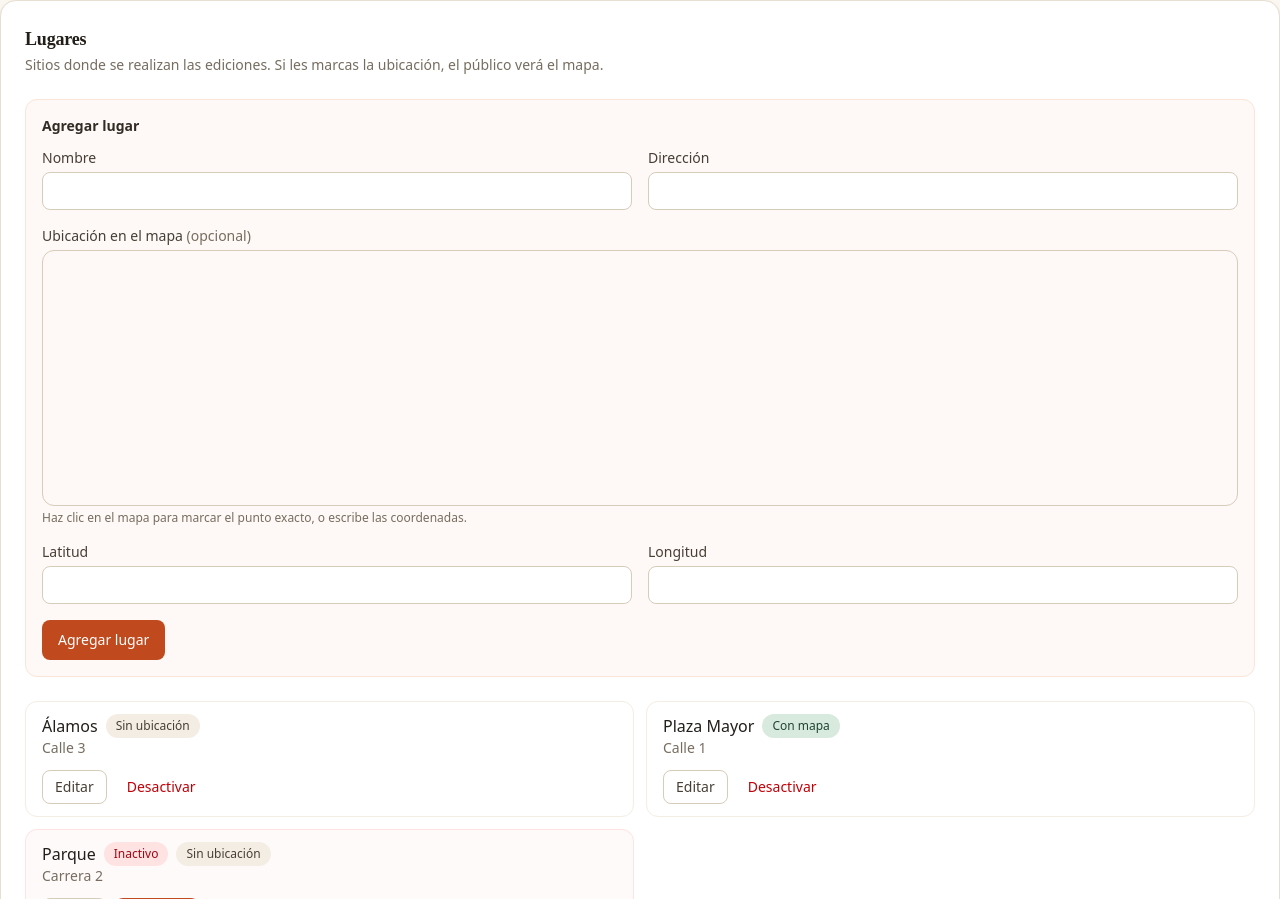
Scenario: GestionLugares: crear › pide ambas coordenadas si solo se escribe una
The image size is (1280, 899).
In the field labelled "Nombre": coordinates (337, 191) [42,172,632,210], type "  Salón Comunal "
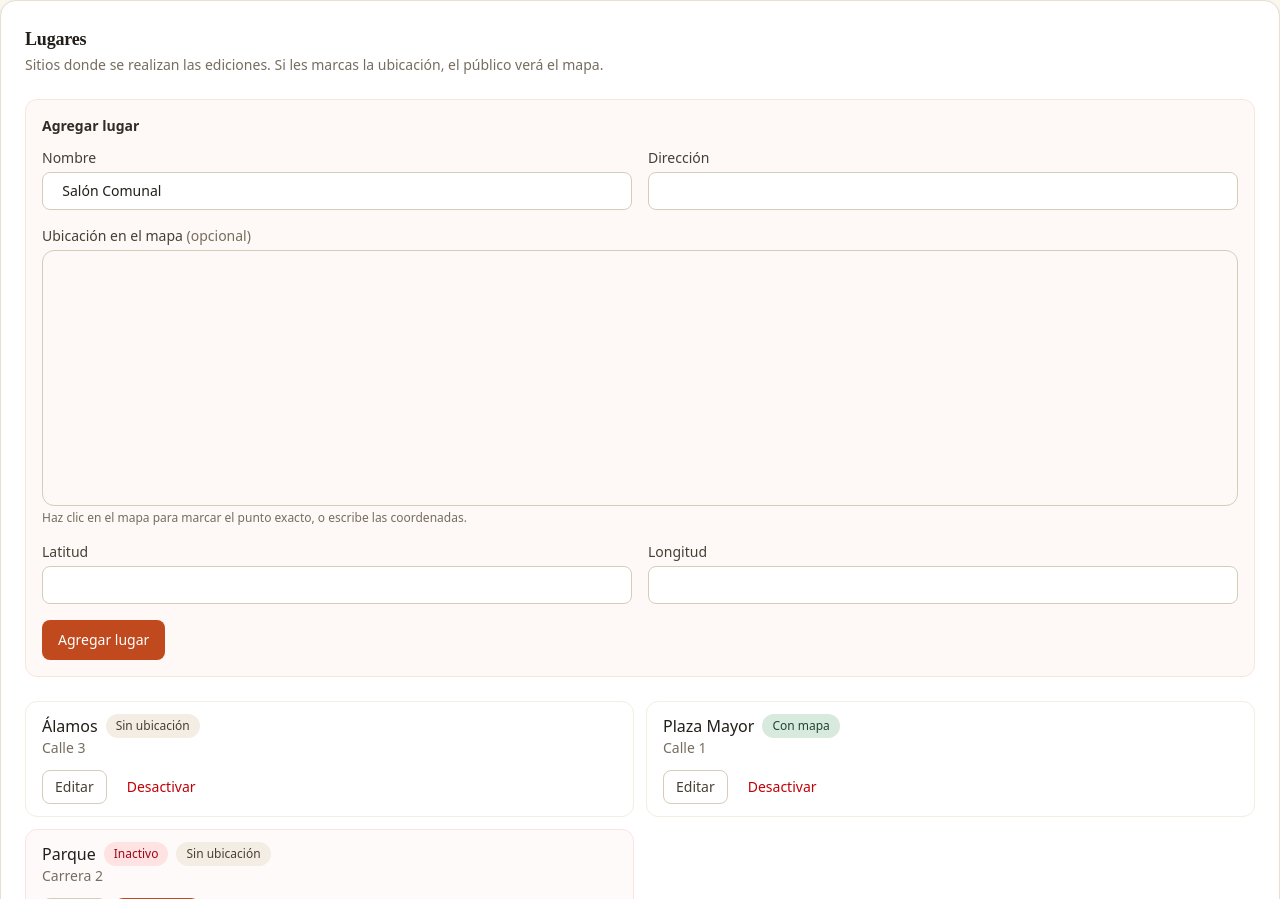
In the field labelled "Dirección": coordinates (943, 191) [648,172,1238,210], type " Calle 9 "
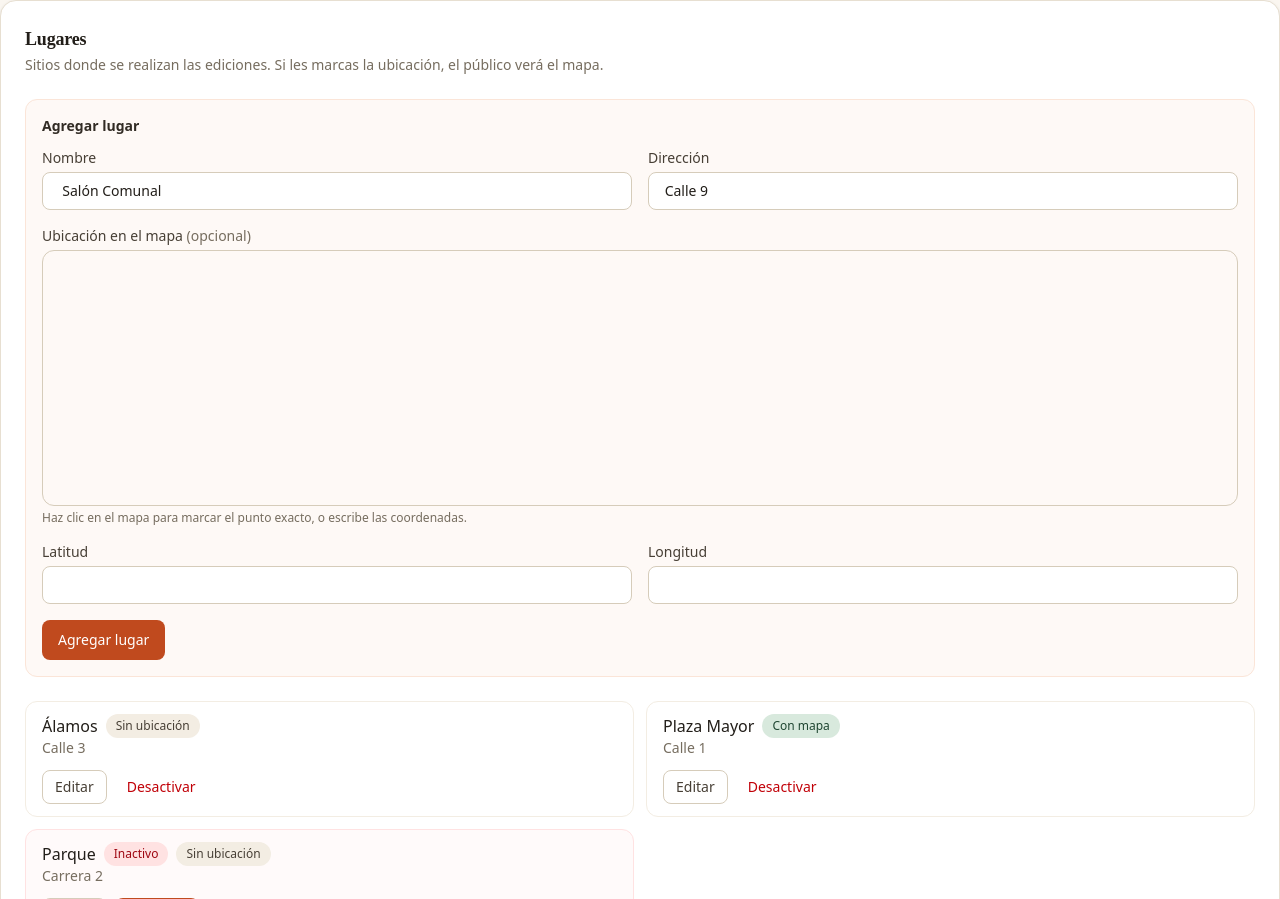
In the number field labelled "Latitud": coordinates (337, 585) [42,566,632,604], type "4.25"
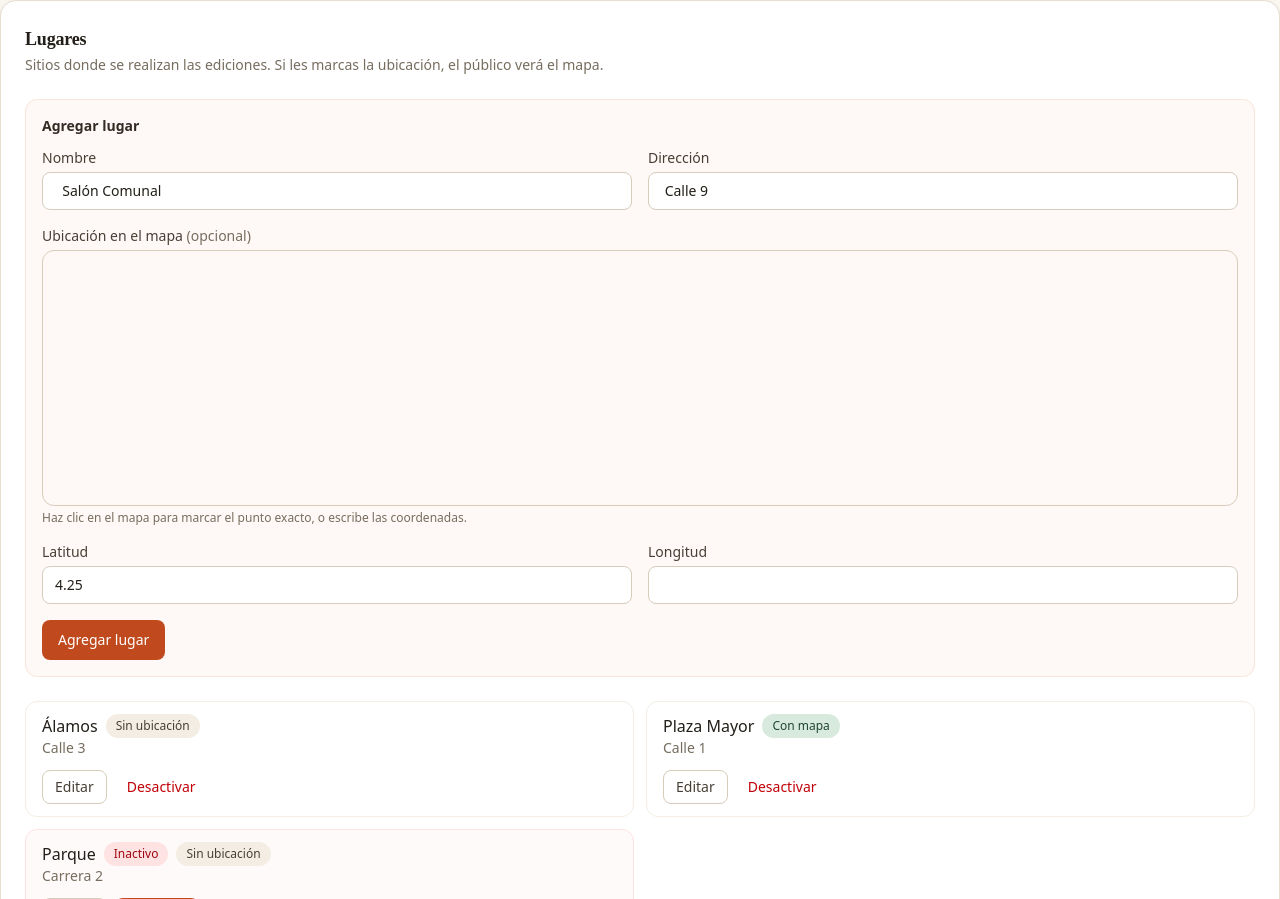
Submit the form labelled "Nombre", box [42,148,1238,660]
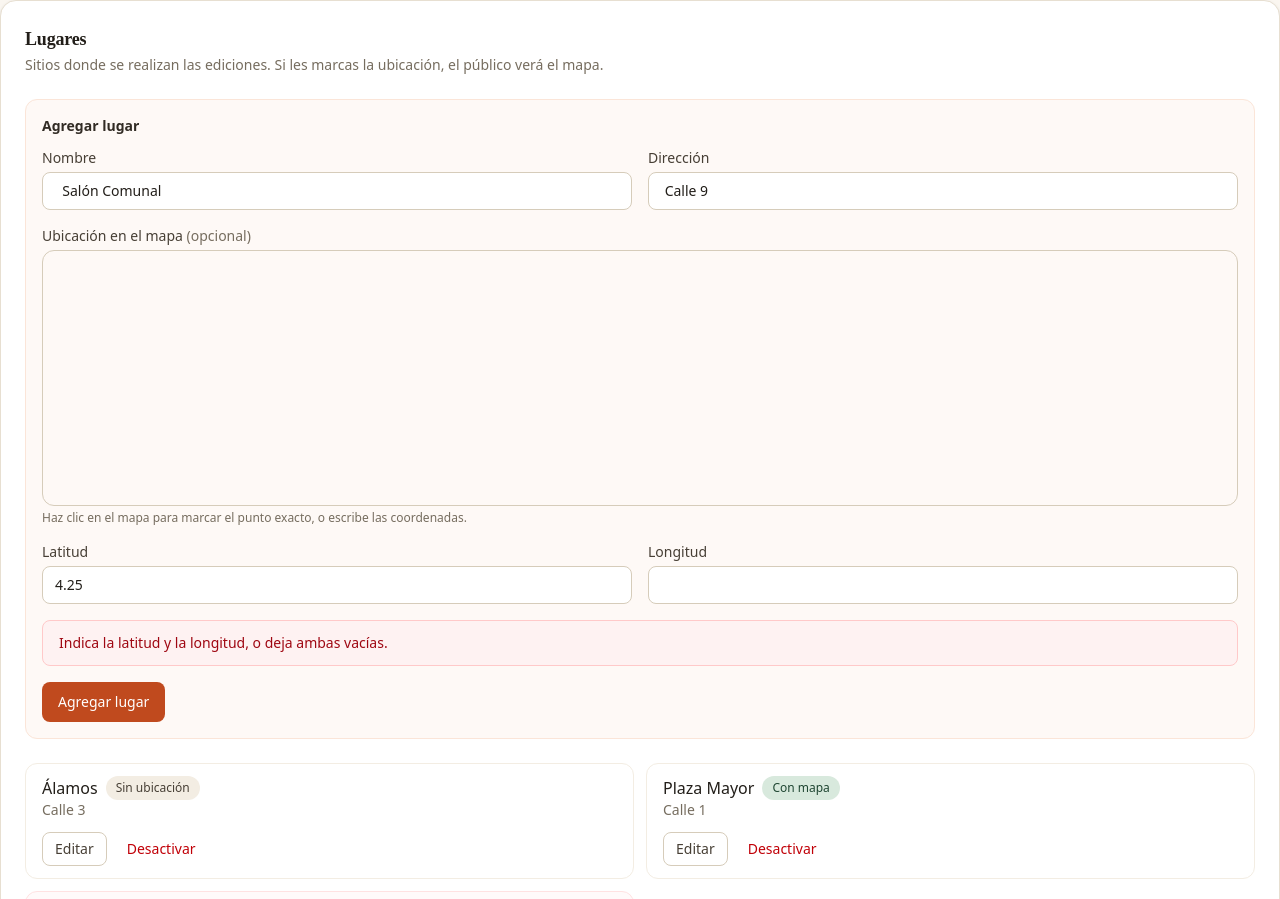
Expected: the message reads "Indica la latitud y la longitud, o deja ambas vacías.", [59,633,388,652]
